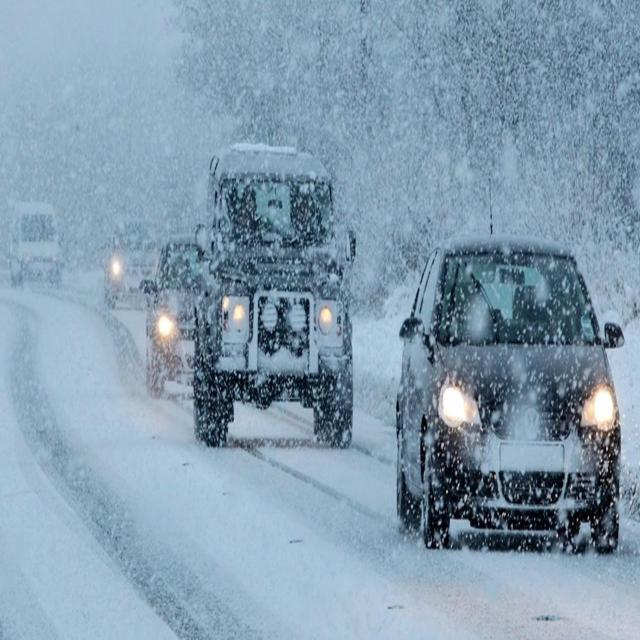Car: (395, 232, 626, 555), (196, 143, 356, 456), (142, 235, 208, 397), (105, 212, 161, 306)
Van: (8, 201, 70, 291)
